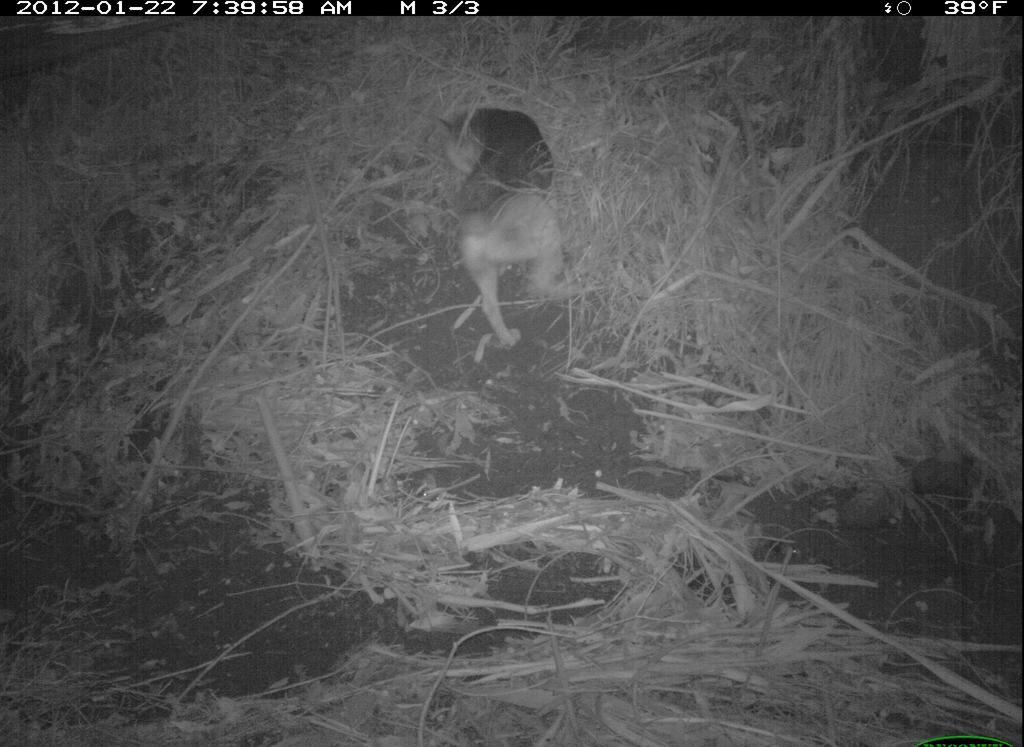dog: (430, 98, 608, 357)
